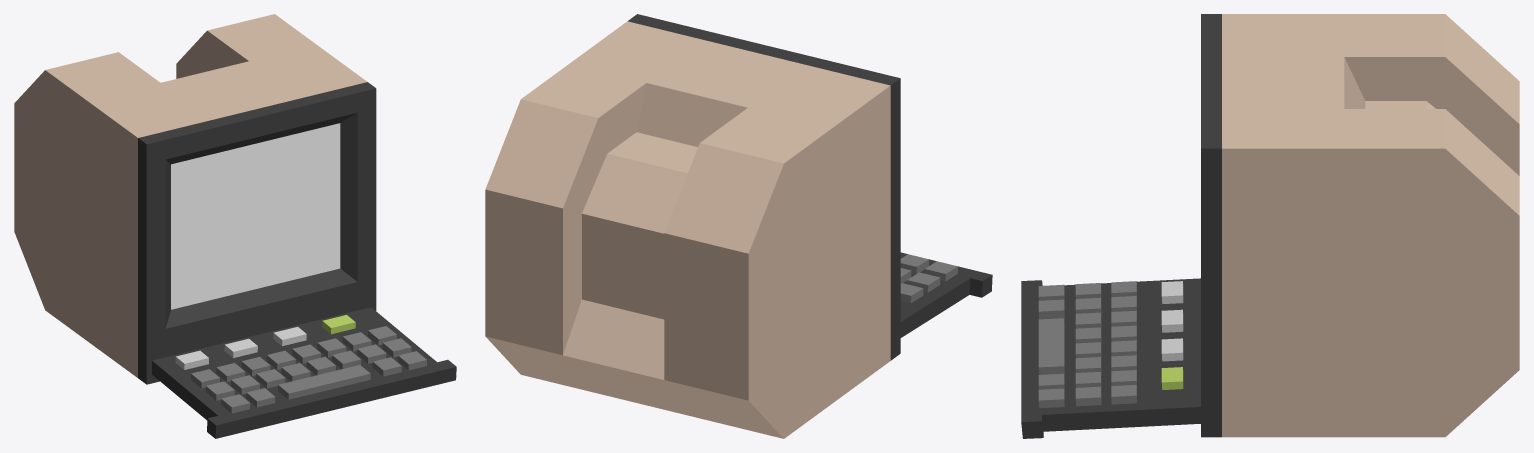
The model's file is minitel.fbx.
3 views of the same model, side by side, from view 1: azimuth 30°, elevation 25°; view 2: azimuth 150°, elevation 25°; view 3: azimuth 270°, elevation 25° (orthographic). The views are drawn at different scales.
Visible parts, largest first — view 1: minitel; view 2: minitel; view 3: minitel.
Boxes of the visible parts, bbox=[...] form: minitel: bbox=[14, 14, 456, 438]; minitel: bbox=[485, 14, 992, 438]; minitel: bbox=[1021, 14, 1519, 438].
Size of the model in its own units: 157 by 150 by 235.
Materials: 1 (1 with a texture image).
